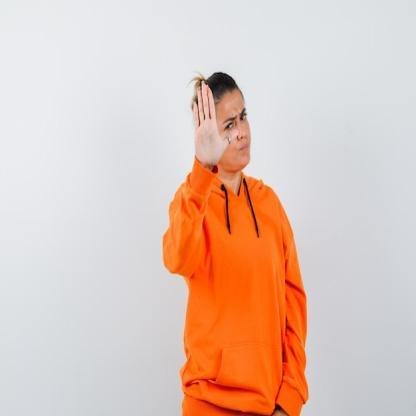stop: (187, 78, 240, 170)
